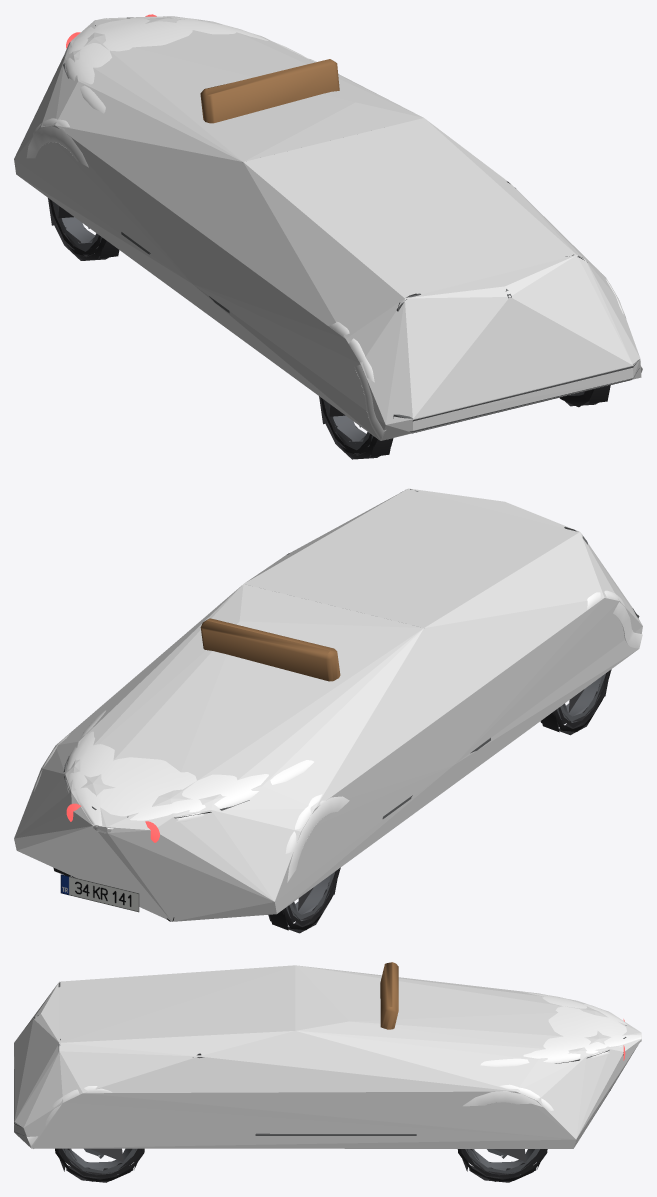
Rendered from bosfor_kartal_lod1.glb.
3 renders of one model, top to bottom at view 1: azimuth 30°, elevation 25°; view 2: azimuth 150°, elevation 25°; view 3: azimuth 270°, elevation 25°, orthographic. The views are drawn at different scales.
Parts seen in each view (by area): view 1: col_body, body, interior, wheel_FR, wheel_RR, trim, wheel_FL; view 2: col_body, body, interior, wheel_RR, wheel_FR, plate_rear; view 3: col_body, body, wheel_FL, wheel_RL, interior, trim.
Boxes of the visible parts, box(x1,y1,x2,y2) form: col_body: box(14, 16, 641, 440); body: box(26, 16, 642, 440); interior: box(200, 59, 339, 123); wheel_FR: box(319, 396, 393, 459); wheel_RR: box(48, 198, 119, 260); trim: box(63, 17, 639, 433); wheel_FL: box(560, 385, 610, 407); col_body: box(14, 488, 642, 921); body: box(33, 590, 642, 882); interior: box(200, 618, 340, 681); wheel_RR: box(268, 867, 340, 933); wheel_FR: box(540, 669, 611, 735); plate_rear: box(60, 874, 139, 912); col_body: box(14, 965, 641, 1148); body: box(27, 992, 641, 1148); wheel_FL: box(55, 1148, 144, 1182); wheel_RL: box(457, 1149, 547, 1182); interior: box(380, 962, 398, 1029); trim: box(14, 982, 626, 1135).
Size of the model in its own units: 1.73 by 1.32 by 4.84.
Materials: 10 (1 with a texture image).
